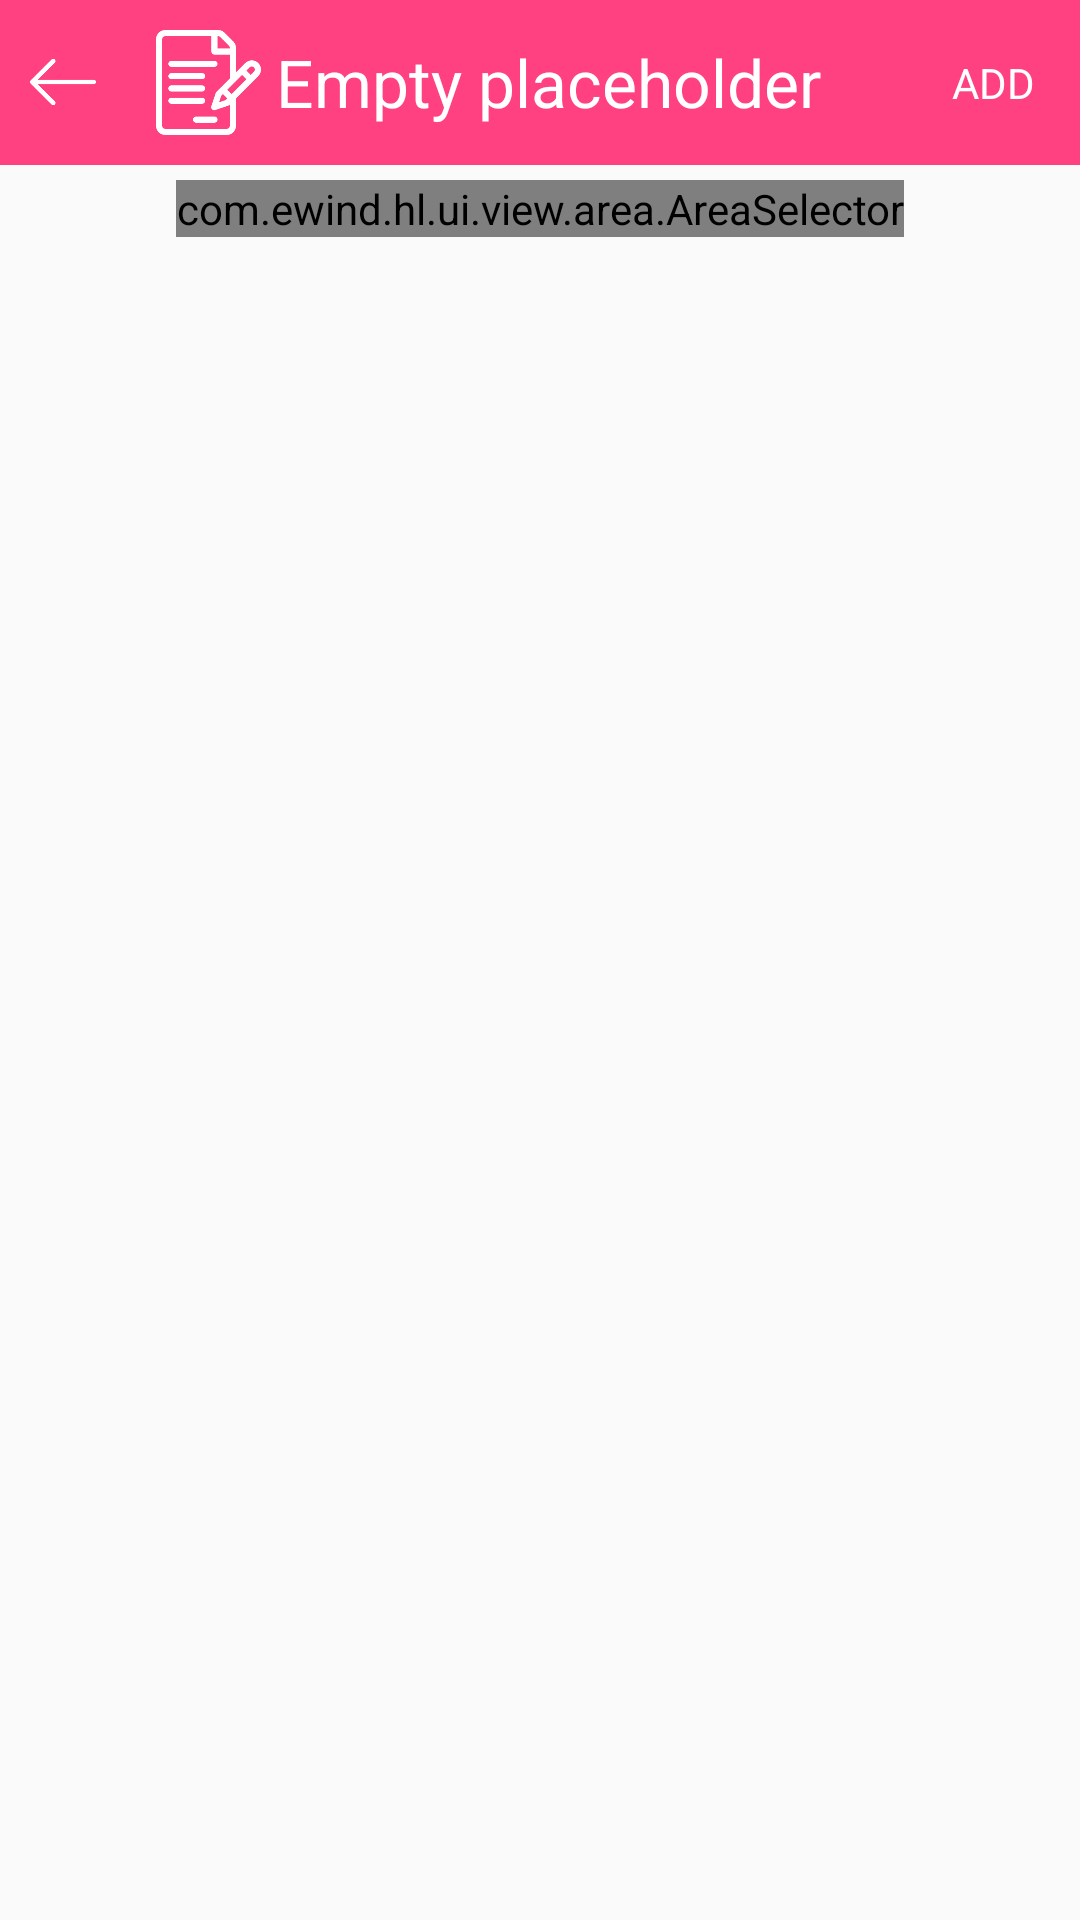

Where to tap for icons on this 1080w x 1920h app screen, as (x,y):
return: (63,82)
